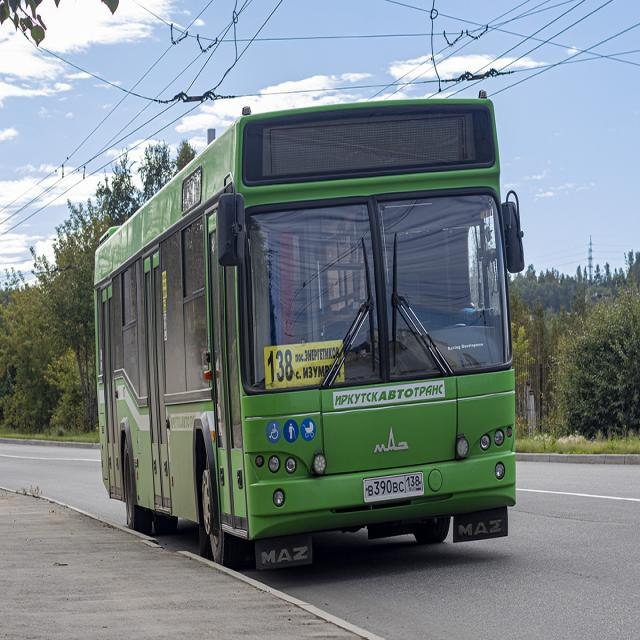number-of-bus: (267, 346, 296, 386)
